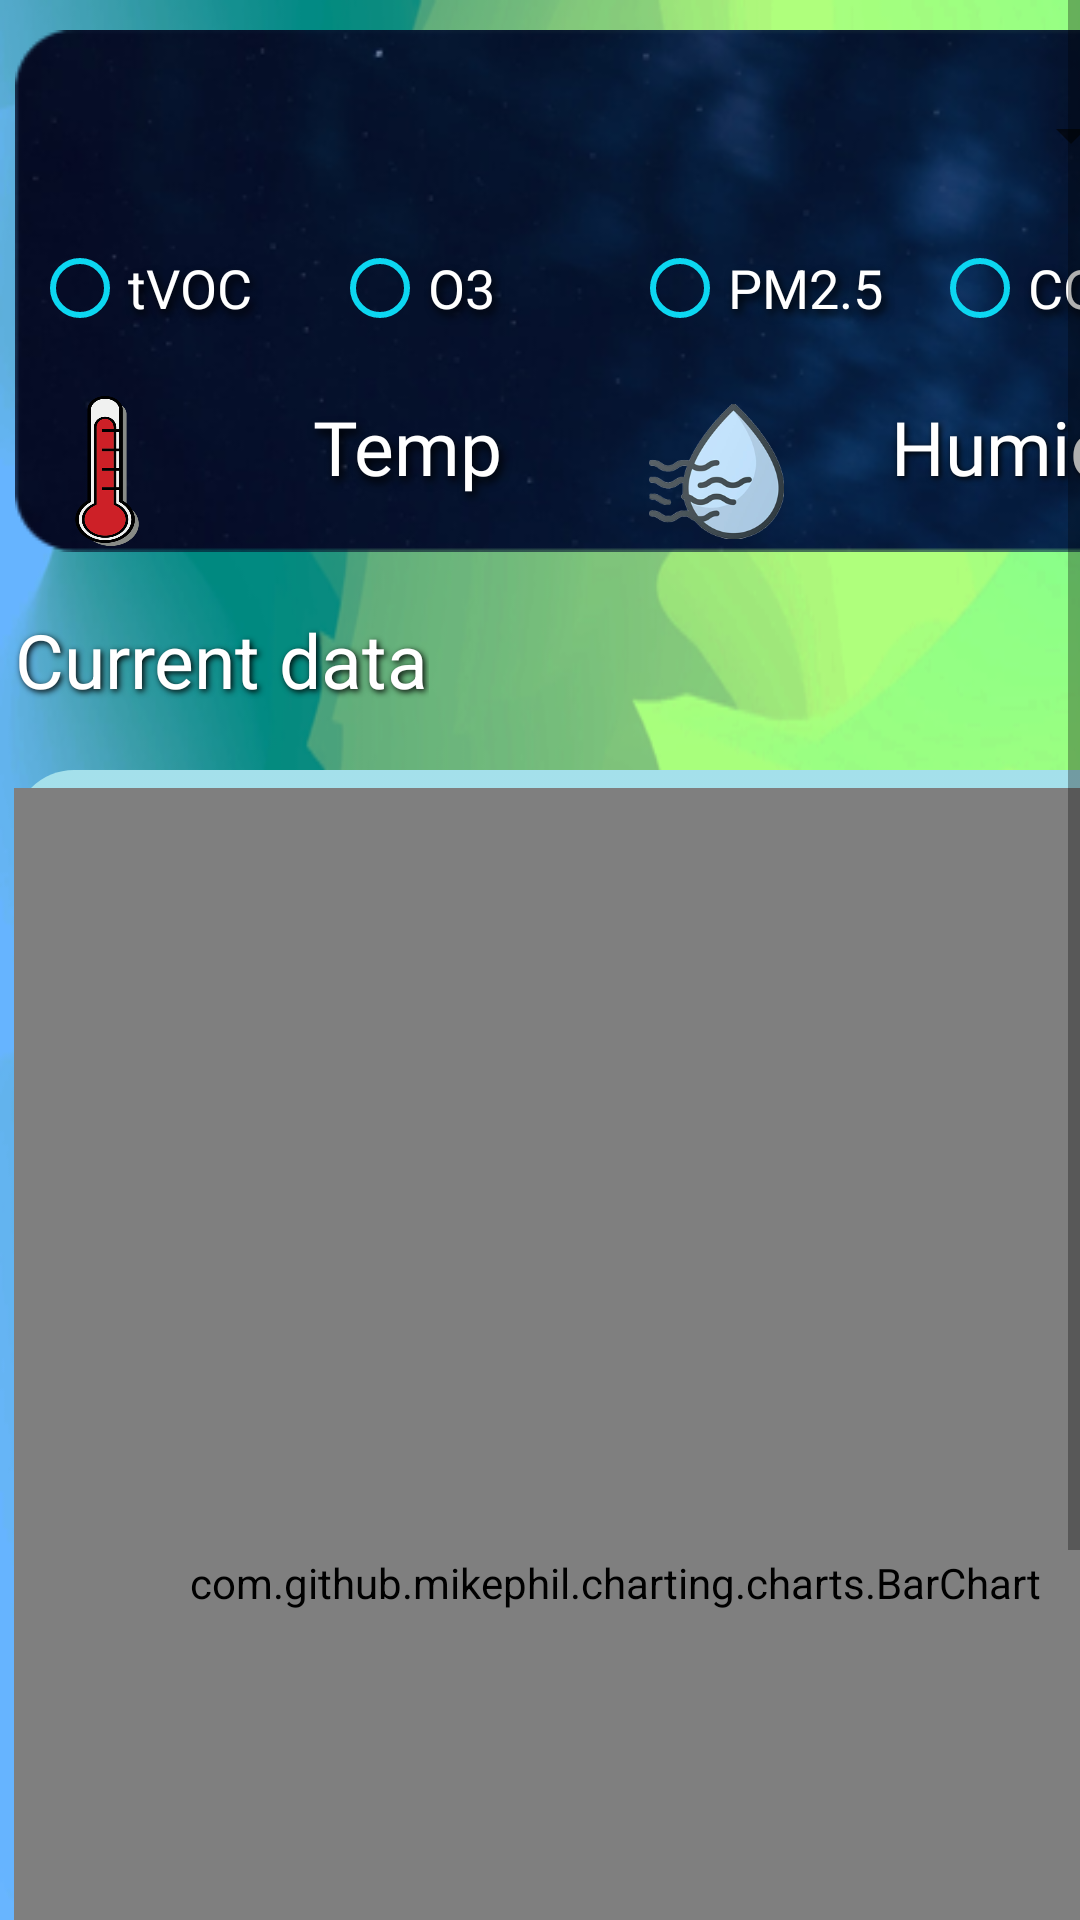

Icon bounding boxes for this 1080 × 1920 phone screenshot, format (x1, y1, x2, y2):
hot: (75, 396, 139, 546)
